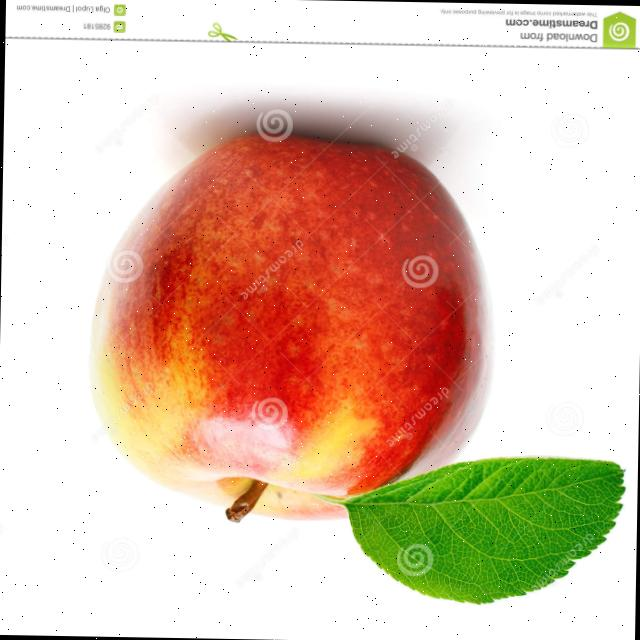Apel: (86, 128, 498, 527)
